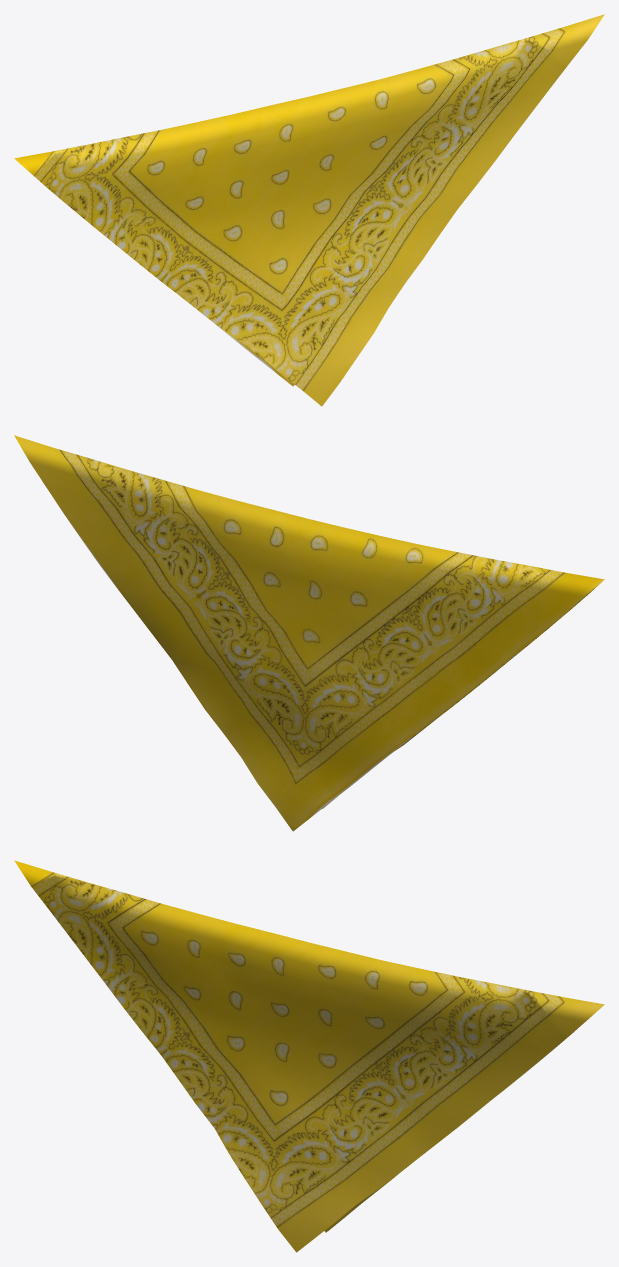
Rendered from bandanna.glb.
3 views of the same model, one above another, from view 1: azimuth 30°, elevation 25°; view 2: azimuth 150°, elevation 25°; view 3: azimuth 330°, elevation 25° (orthographic).
Parts seen in each view (by area): view 1: bandanna; view 2: bandanna; view 3: bandanna.
Part boxes in pixels (box(x1,y1,x2,y2)): bandanna: box(14, 14, 604, 406); bandanna: box(14, 435, 604, 831); bandanna: box(14, 860, 604, 1252).
Size of the model in its own units: 2.83 by 1.43 by 0.2445.
2 materials, 2 textured.
